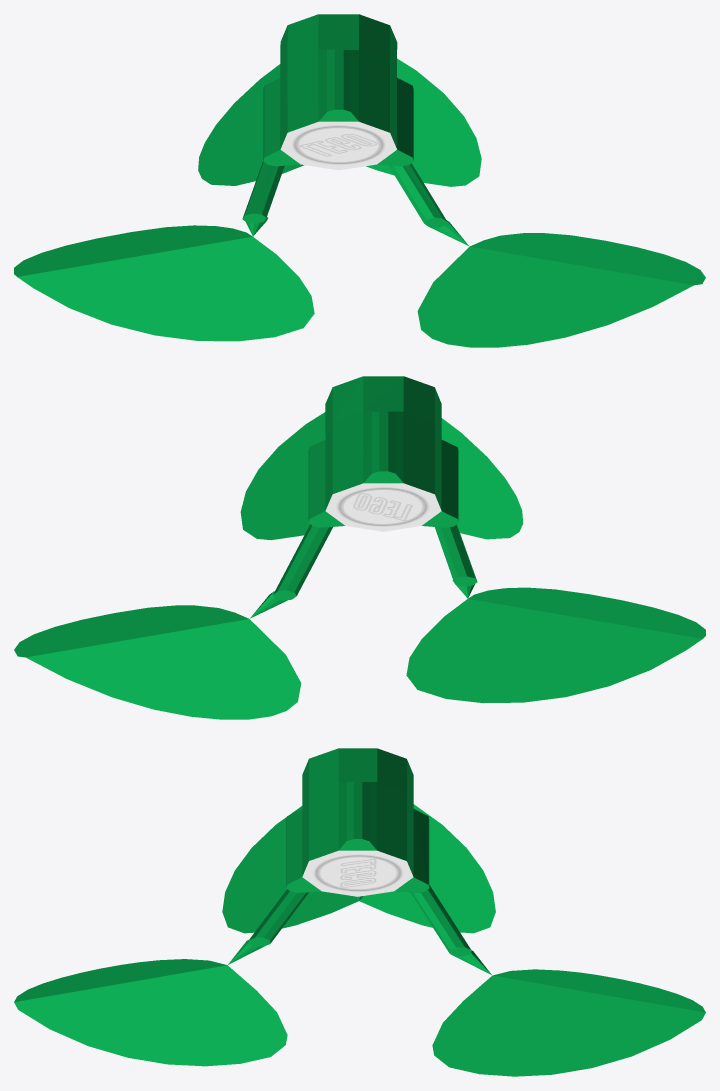
The picture shows the model from 3 angles, top to bottom: view 1: azimuth 30°, elevation 25°; view 2: azimuth 150°, elevation 25°; view 3: azimuth 270°, elevation 25°; orthographic projection. The views are drawn at different scales.
Visible parts, largest first — view 1: 005_L_625500_PART_1, 008_L_625500_PART_3, 014_L_625500_PART_7, 011_L_625500_PART_5, 006_L_625500_PART_2, 012_L_625500_PART_6; view 2: 005_L_625500_PART_1, 011_L_625500_PART_5, 014_L_625500_PART_7, 008_L_625500_PART_3, 009_L_625500_PART_4, 012_L_625500_PART_6; view 3: 011_L_625500_PART_5, 008_L_625500_PART_3, 014_L_625500_PART_7, 005_L_625500_PART_1, 009_L_625500_PART_4, 006_L_625500_PART_2.
Part boxes in pixels (<box>): 005_L_625500_PART_1: <box>14,217,314,341</box>; 008_L_625500_PART_3: <box>417,217,705,347</box>; 014_L_625500_PART_7: <box>263,14,413,170</box>; 011_L_625500_PART_5: <box>198,58,481,186</box>; 006_L_625500_PART_2: <box>388,163,447,227</box>; 012_L_625500_PART_6: <box>242,161,284,223</box>; 005_L_625500_PART_1: <box>406,580,705,703</box>; 011_L_625500_PART_5: <box>14,590,301,719</box>; 014_L_625500_PART_7: <box>308,376,458,531</box>; 008_L_625500_PART_3: <box>240,412,523,539</box>; 009_L_625500_PART_4: <box>273,524,332,600</box>; 012_L_625500_PART_6: <box>435,524,477,586</box>; 011_L_625500_PART_5: <box>432,948,705,1076</box>; 008_L_625500_PART_3: <box>14,937,287,1066</box>; 014_L_625500_PART_7: <box>286,748,429,896</box>; 005_L_625500_PART_1: <box>222,804,495,933</box>; 009_L_625500_PART_4: <box>411,885,471,956</box>; 006_L_625500_PART_2: <box>248,889,308,946</box>.
Bounding box in the file's own units: 3.42 × 1.32 × 3.92.
Materials: 3 (1 with a texture image).
